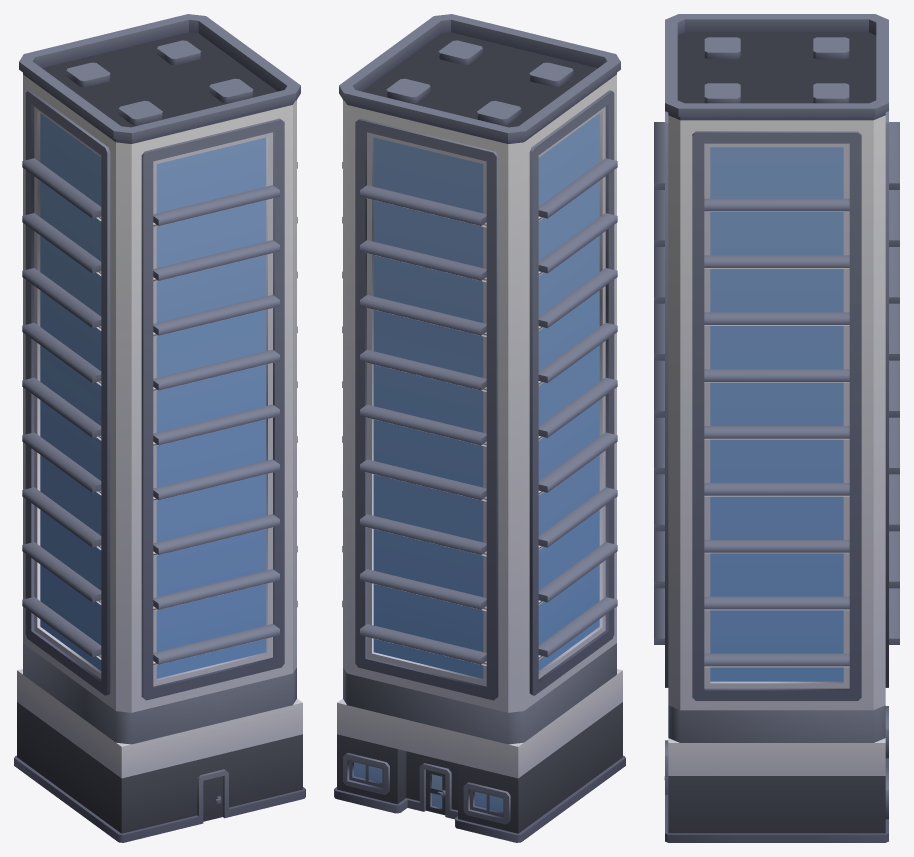
File: k_c_building-skyscraper-b.glb
The picture shows the model from 3 angles, left to right: view 1: azimuth 30°, elevation 25°; view 2: azimuth 150°, elevation 25°; view 3: azimuth 270°, elevation 25°; orthographic projection. The views are drawn at different scales.
Parts seen in each view (by area): view 1: building-skyscraper-b; view 2: building-skyscraper-b; view 3: building-skyscraper-b.
Part boxes in pixels (left/top/right/bottom): building-skyscraper-b: left=14, top=14, right=305, bottom=842; building-skyscraper-b: left=334, top=14, right=625, bottom=842; building-skyscraper-b: left=654, top=14, right=899, bottom=842.
Size of the model in its own units: 1.36 by 4.48 by 1.36.
1 material, 1 textured.
